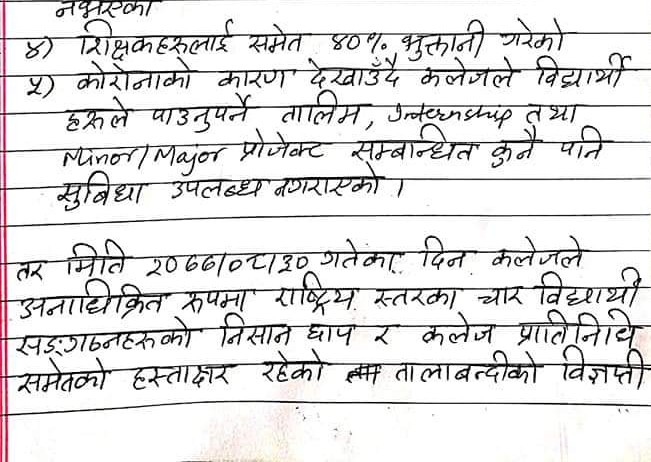text: (6, 323, 201, 356), (393, 353, 544, 392), (75, 21, 232, 58), (17, 282, 167, 319), (144, 246, 313, 275), (513, 312, 642, 348), (532, 270, 647, 310), (350, 128, 477, 162), (276, 161, 386, 200), (149, 94, 257, 132), (556, 348, 646, 393), (72, 59, 194, 92), (399, 16, 489, 60), (482, 233, 591, 269), (530, 54, 636, 90), (54, 173, 144, 213), (271, 273, 360, 313), (166, 170, 267, 205), (317, 236, 405, 276), (14, 358, 108, 395), (127, 358, 235, 390), (418, 58, 514, 92), (306, 56, 401, 90), (277, 91, 364, 128), (497, 13, 572, 54), (418, 311, 497, 348), (368, 279, 461, 310), (235, 129, 326, 160), (256, 350, 334, 386), (46, 1, 166, 24), (415, 233, 478, 276), (59, 94, 131, 131), (59, 241, 135, 276), (216, 314, 292, 349), (178, 285, 252, 316), (242, 21, 311, 54), (488, 128, 541, 170), (210, 64, 295, 90), (559, 127, 614, 160), (305, 316, 359, 347), (524, 99, 581, 127), (8, 252, 47, 285), (476, 283, 527, 308), (328, 22, 361, 54), (22, 33, 50, 62), (23, 71, 49, 101), (371, 324, 398, 349)
